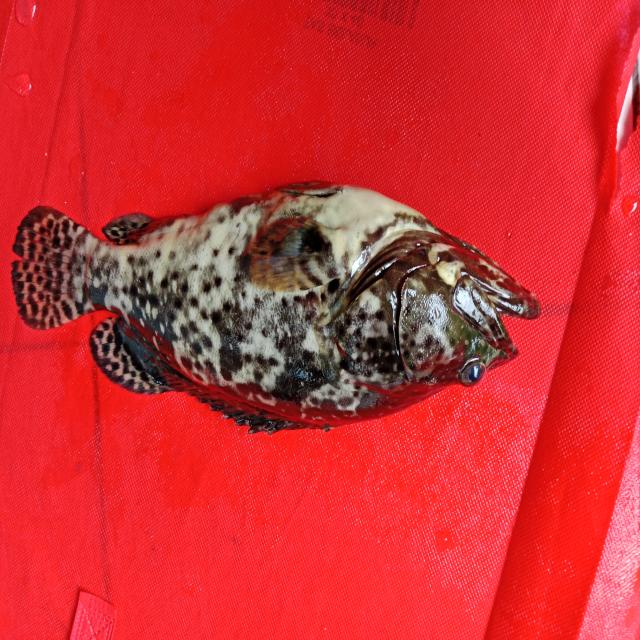ikan: (6, 160, 559, 447)
